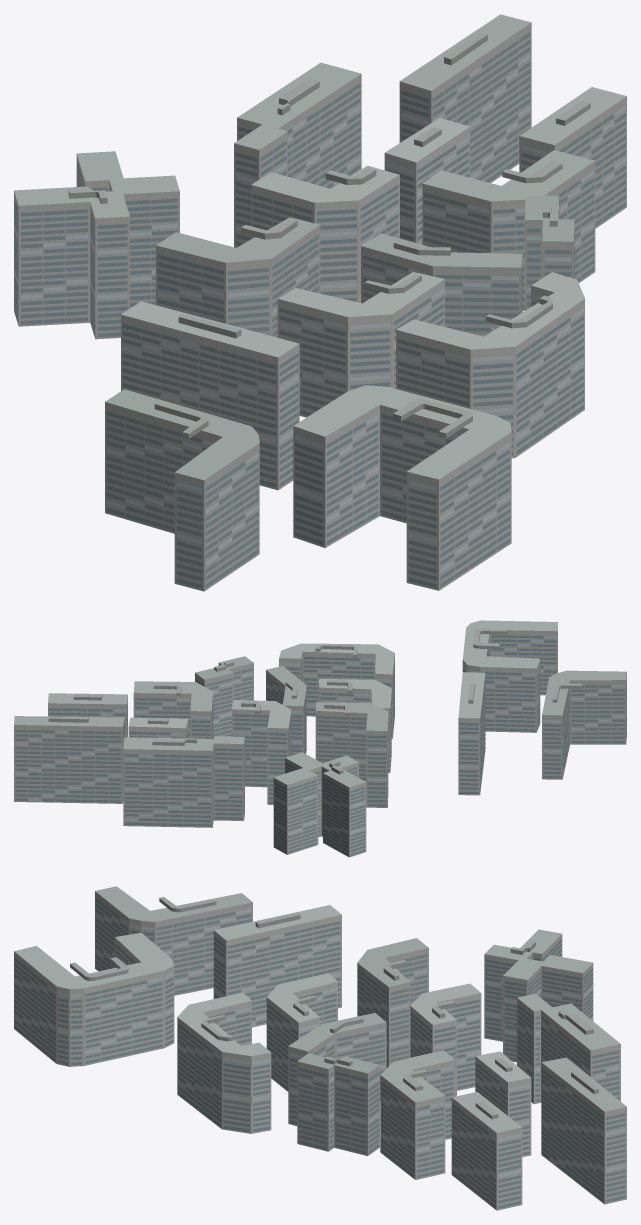
Rendered from apt-a15807703.glb.
3 renders of one model, top to bottom at view 1: azimuth 30°, elevation 25°; view 2: azimuth 150°, elevation 25°; view 3: azimuth 270°, elevation 25°, orthographic. The views are drawn at different scales.
Parts seen in each view (by area): view 1: apt-a15807703; view 2: apt-a15807703; view 3: apt-a15807703.
Part boxes in pixels (<box>): apt-a15807703: <box>14,14,626,591</box>; apt-a15807703: <box>14,620,626,857</box>; apt-a15807703: <box>14,886,626,1210</box>.
Bounding box in the file's own units: 306 × 56 × 321.
